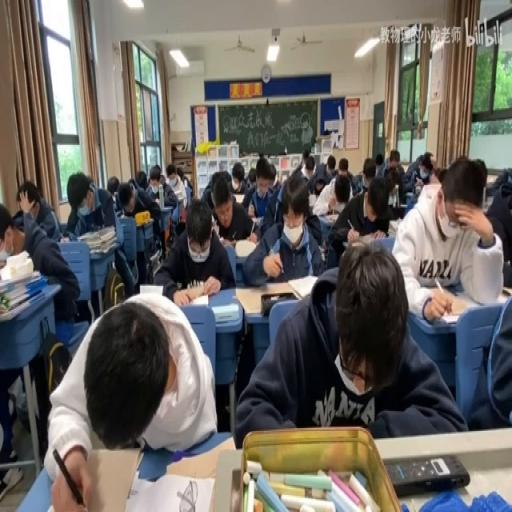calculator: (126, 469, 214, 512), (162, 434, 234, 480), (0, 263, 49, 319), (234, 282, 298, 314), (286, 273, 318, 297), (212, 302, 238, 322), (234, 238, 258, 258), (354, 232, 383, 247), (138, 283, 163, 296), (438, 310, 462, 323), (148, 247, 160, 269), (188, 292, 208, 304), (322, 212, 339, 225), (497, 288, 512, 302), (403, 189, 416, 205), (388, 218, 398, 234), (307, 193, 317, 209), (414, 176, 424, 192), (136, 214, 152, 224), (219, 238, 235, 248), (250, 213, 262, 226), (152, 194, 162, 208), (0, 248, 8, 264), (342, 240, 348, 248)
paper: (237, 245, 461, 445), (48, 292, 218, 508), (392, 156, 503, 322), (242, 174, 322, 283), (156, 196, 233, 302), (464, 280, 510, 430), (323, 173, 393, 266), (117, 176, 164, 279), (64, 171, 114, 239), (18, 179, 59, 239), (199, 168, 235, 209), (406, 151, 438, 196), (0, 204, 24, 260), (164, 162, 187, 213), (306, 154, 335, 194), (336, 156, 362, 195), (485, 166, 511, 198), (383, 148, 405, 183), (229, 161, 246, 199), (288, 148, 307, 176), (474, 156, 487, 184), (134, 169, 148, 192), (267, 162, 277, 189), (389, 203, 405, 219), (106, 175, 118, 196), (148, 165, 160, 186), (362, 161, 374, 182), (388, 182, 398, 206), (246, 166, 257, 186), (435, 168, 447, 183), (374, 152, 383, 171), (182, 175, 191, 188), (428, 155, 435, 169), (306, 163, 314, 175), (303, 149, 310, 161), (159, 175, 166, 186)
person: (385, 452, 470, 496)
